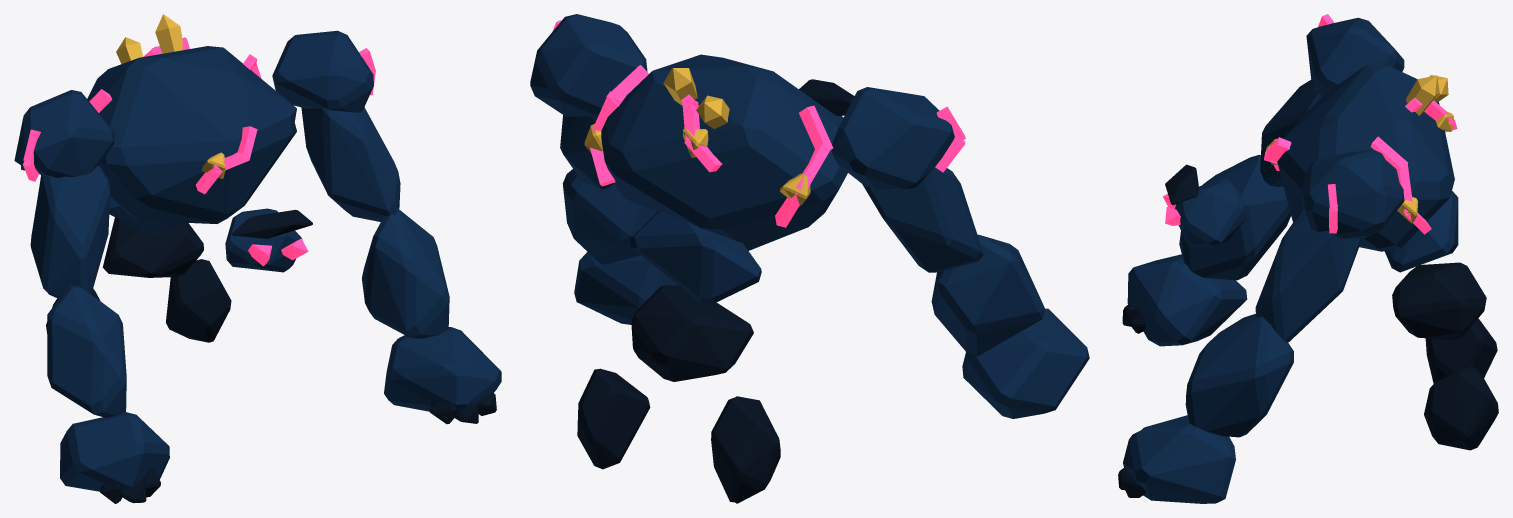
The model's file is OreGolem.glb.
The picture shows the model from 3 angles, left to right: view 1: azimuth 30°, elevation 25°; view 2: azimuth 150°, elevation 25°; view 3: azimuth 270°, elevation 25°; orthographic projection. The views are drawn at different scales.
Visible parts, largest first — view 1: Torso, Arm_R, Arm_L, Forearm_L, Forearm_R, Fist_L, Fist_R, Body, Head, Leg_L; view 2: Torso, Arm_R, Arm_L, Forearm_R, Fist_R, Body, Leg_R, Forearm_L, Leg_L, Fist_L, Head; view 3: Torso, Arm_L, Forearm_L, Fist_L, Fist_R, Arm_R, Forearm_R, Body, Head, Leg_L, Leg_R.
Boxes of the visible parts, bbox=[...] form: Torso: bbox=[87, 14, 296, 233]; Arm_R: bbox=[14, 90, 114, 298]; Arm_L: bbox=[272, 30, 400, 221]; Forearm_L: bbox=[362, 208, 449, 338]; Forearm_R: bbox=[47, 285, 126, 417]; Fist_L: bbox=[384, 327, 501, 424]; Fist_R: bbox=[60, 412, 169, 503]; Body: bbox=[102, 217, 203, 277]; Head: bbox=[225, 208, 312, 272]; Leg_L: bbox=[166, 259, 231, 342]; Torso: bbox=[584, 54, 847, 303]; Arm_R: bbox=[831, 87, 983, 272]; Arm_L: bbox=[530, 14, 647, 189]; Forearm_R: bbox=[931, 234, 1045, 356]; Fist_R: bbox=[962, 308, 1089, 418]; Body: bbox=[631, 285, 753, 381]; Leg_R: bbox=[711, 396, 780, 503]; Forearm_L: bbox=[562, 169, 655, 264]; Leg_L: bbox=[577, 368, 650, 469]; Fist_L: bbox=[574, 252, 678, 324]; Head: bbox=[799, 79, 854, 119]; Torso: bbox=[1264, 62, 1458, 272]; Arm_L: bbox=[1255, 149, 1404, 342]; Forearm_L: bbox=[1185, 313, 1293, 437]; Fist_L: bbox=[1118, 415, 1235, 503]; Fist_R: bbox=[1122, 254, 1247, 346]; Arm_R: bbox=[1260, 14, 1404, 186]; Forearm_R: bbox=[1179, 154, 1290, 280]; Body: bbox=[1392, 262, 1486, 340]; Head: bbox=[1163, 164, 1247, 247]; Leg_L: bbox=[1424, 365, 1498, 450]; Leg_R: bbox=[1425, 318, 1497, 383].
Bounding box in the file's own units: 1.07 × 0.8456 × 0.8245.
